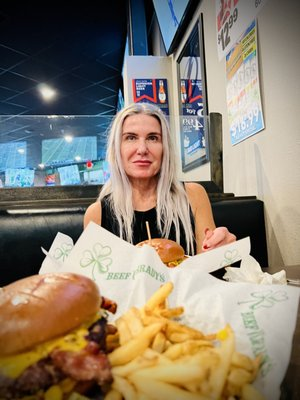soup: (0, 271, 117, 400)
